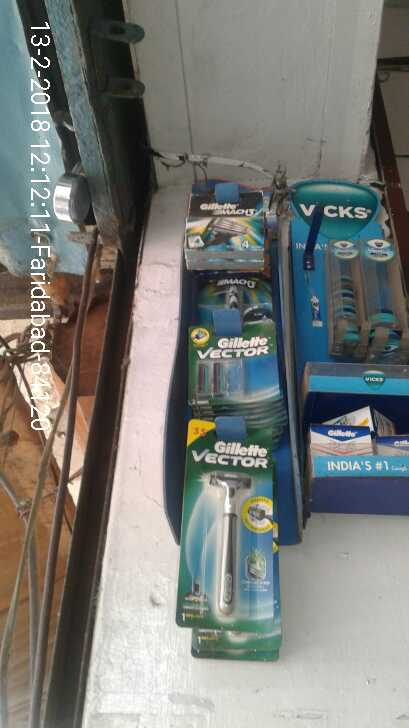beauty: (181, 412, 281, 662), (191, 272, 290, 416), (183, 191, 273, 265)
pharmacy: (330, 265, 362, 353), (369, 302, 403, 355)
